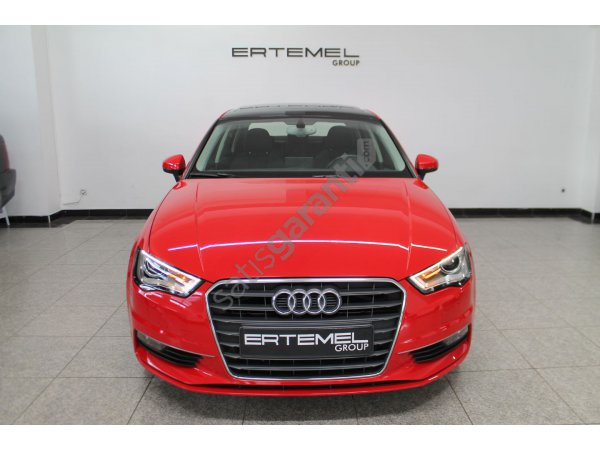audi: (266, 287, 345, 317)
